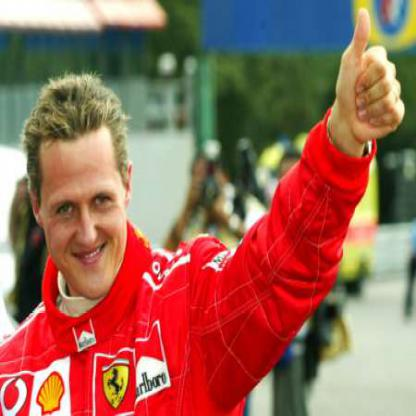face: (42, 95, 129, 303)
